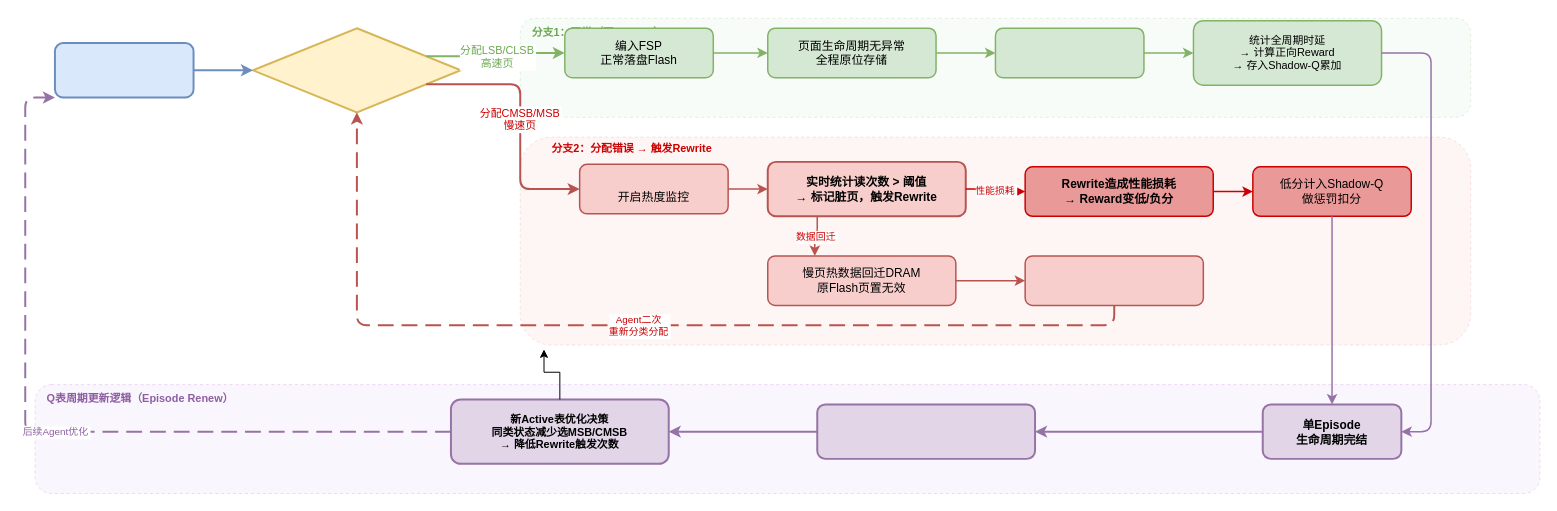
The diagram is 1557 pixels wide and 511 high, and some of its shapes have lost their labels. The shapes that lost their labels are listed below. From the top down, each one's box as (x1, y1, x2, y2) in pixels, then its label:
(53, 42, 194, 98): 页面进入 DRAM缓存
(251, 27, 461, 113): Agent查表Active-Q → 分配页类型 (LSB/CLSB/CMSB/MSB)
(994, 27, 1144, 78): Episode结束 (页面GC回收)
(1024, 255, 1204, 306): 数据放回D节点缓存池 等待下一轮FSP
(816, 403, 1036, 459): Episode Renew周期到 Shadow整体复制覆盖Active-Q
